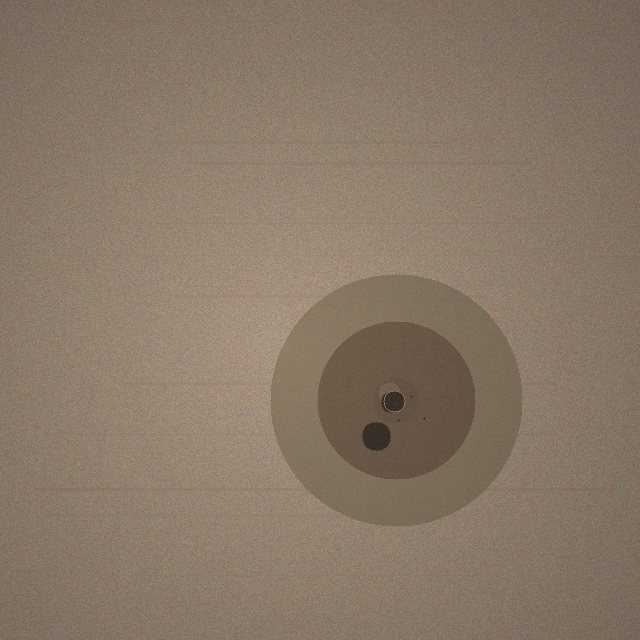shrinkage: (270, 274, 522, 526)
